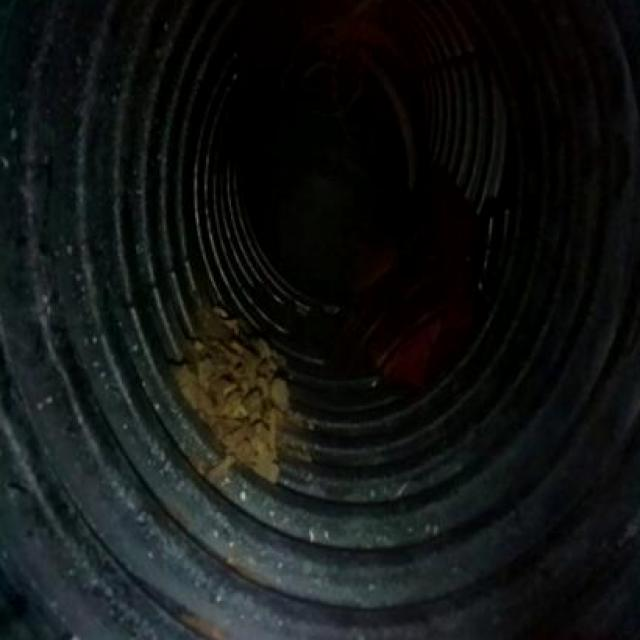dirt: (185, 321, 278, 474)
